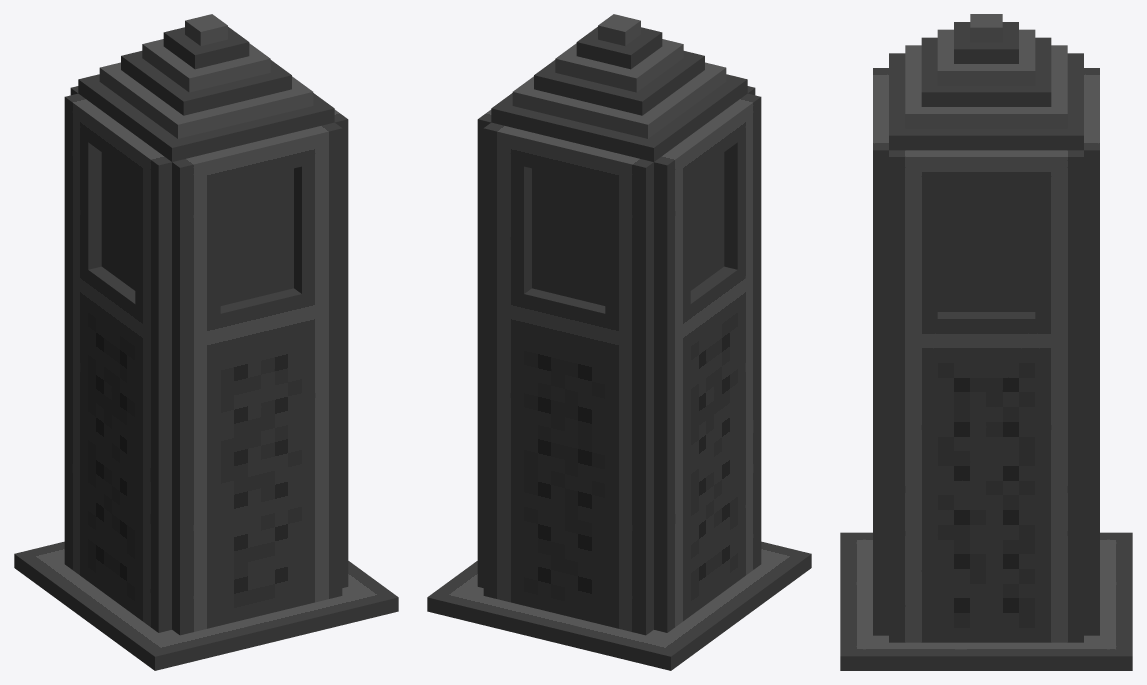
Rendered from statue_swap.glb.
The picture shows the model from 3 angles, left to right: view 1: azimuth 30°, elevation 25°; view 2: azimuth 150°, elevation 25°; view 3: azimuth 270°, elevation 25°; orthographic projection. The views are drawn at different scales.
Parts seen in each view (by area): view 1: statue_swap; view 2: statue_swap; view 3: statue_swap.
Part boxes in pixels (x1,y1,x2,y2): statue_swap: (14, 14, 398, 670); statue_swap: (427, 14, 811, 670); statue_swap: (840, 14, 1132, 670).
Size of the model in its own units: 1.8 by 4 by 1.8.
1 material, 1 textured.
